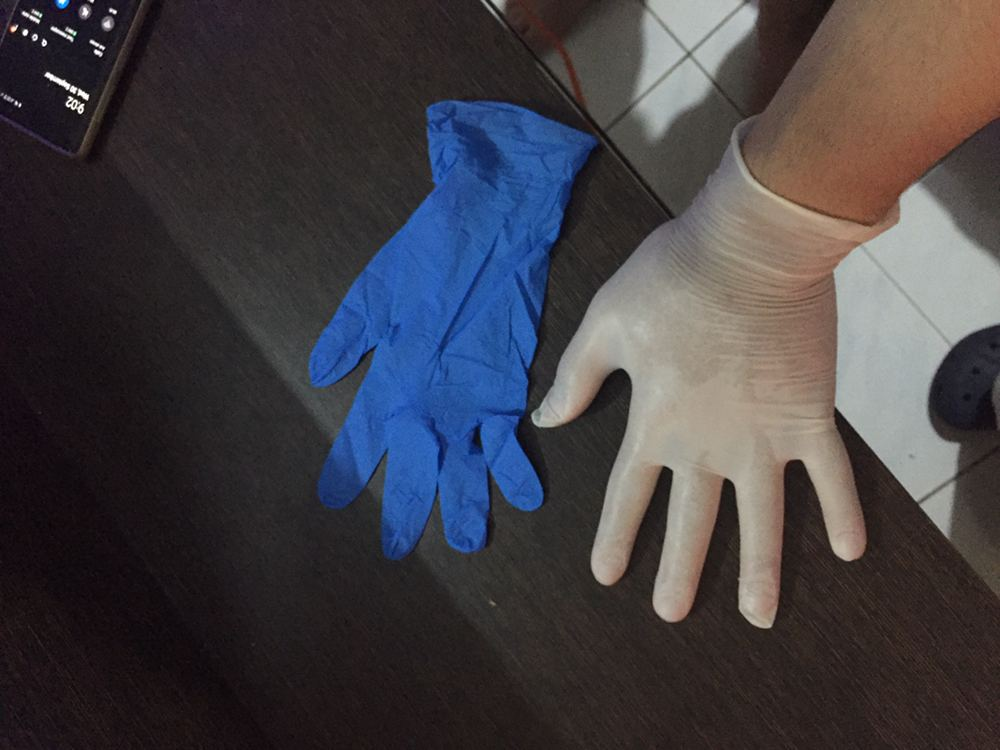glove: (536, 245, 915, 697), (255, 93, 593, 589)
